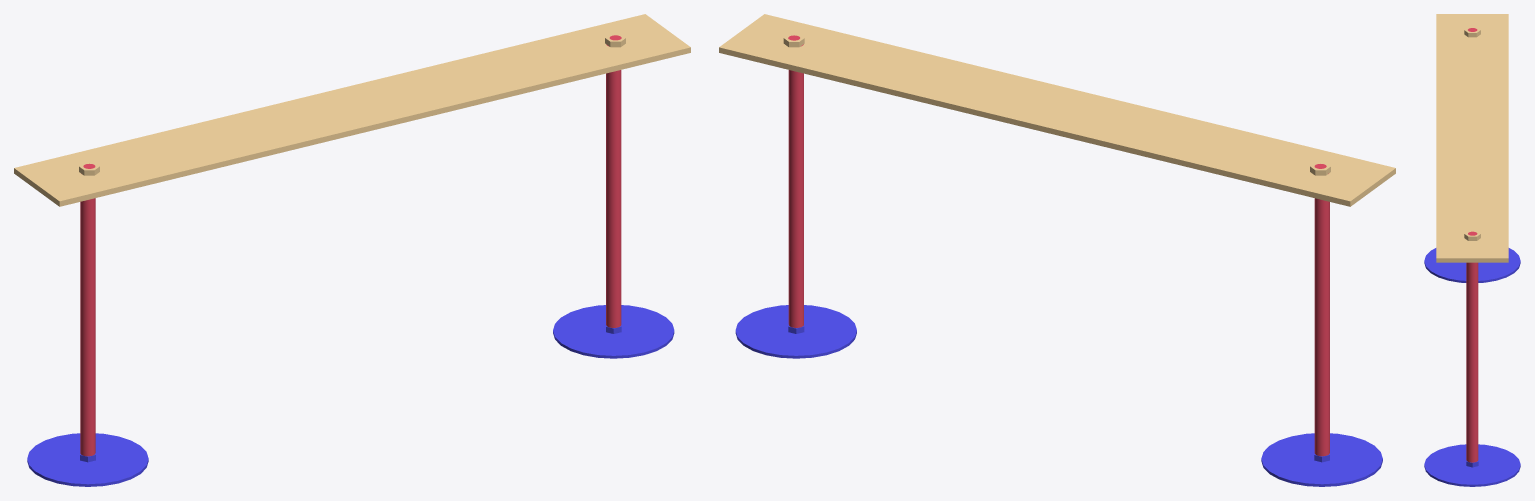
3 views of the same model, side by side, from view 1: azimuth 30°, elevation 25°; view 2: azimuth 150°, elevation 25°; view 3: azimuth 270°, elevation 25° (orthographic). The views are drawn at different scales.
Parts seen in each view (by area): view 1: instance_5_003, instance_2_004, instance_2_001, instance_3, instance_3_001; view 2: instance_5_003, instance_2_004, instance_2_001, instance_3, instance_3_001; view 3: instance_5_003, instance_2_001, instance_3, instance_2_004, instance_5_002, instance_5_001.
Part boxes in pixels (box(x1,y1,x2,y2)): instance_5_003: box(14, 14, 690, 206); instance_2_004: box(27, 433, 148, 486); instance_2_001: box(553, 305, 674, 358); instance_3: box(606, 44, 621, 327); instance_3_001: box(80, 198, 95, 456); instance_5_003: box(719, 14, 1395, 206); instance_2_004: box(1261, 433, 1382, 486); instance_2_001: box(735, 305, 856, 358); instance_3: box(788, 44, 803, 327); instance_3_001: box(1314, 173, 1329, 456); instance_5_003: box(1436, 14, 1508, 262); instance_2_001: box(1424, 444, 1520, 486); instance_3: box(1466, 262, 1478, 462); instance_2_004: box(1424, 248, 1520, 282); instance_5_002: box(1464, 230, 1480, 240); instance_5_001: box(1464, 27, 1480, 37).
Size of the model in its own units: 1.2 by 0.2 by 0.535.
